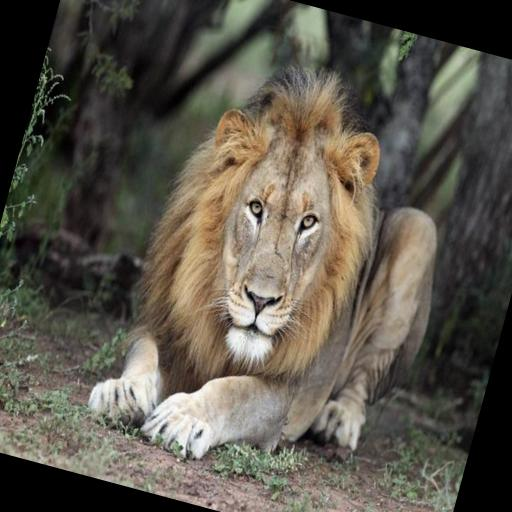lions: (65, 10, 474, 496)
